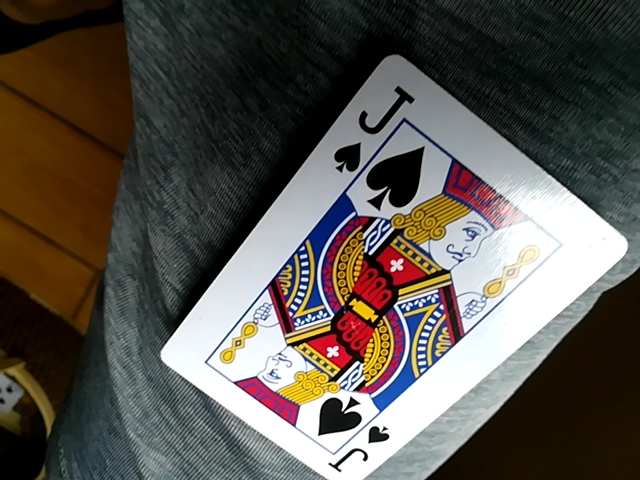ht j: (152, 53, 626, 477)
